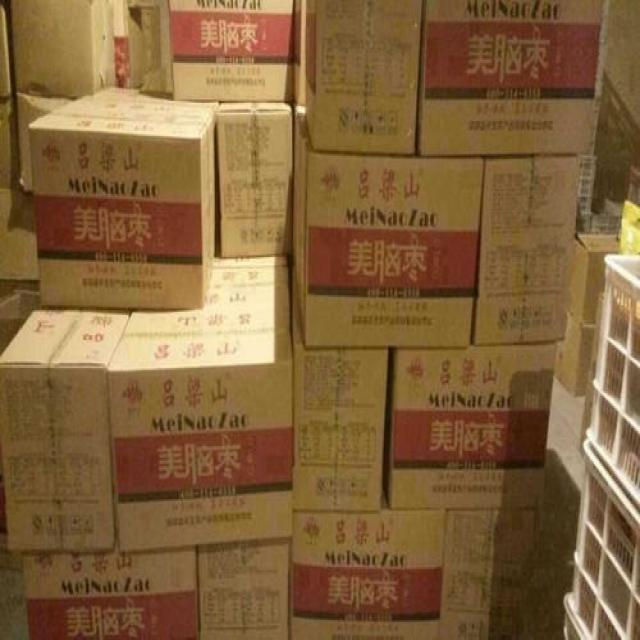box: (292, 107, 484, 350), (107, 308, 294, 553), (28, 86, 219, 309), (0, 309, 132, 552), (417, 0, 604, 155), (386, 343, 557, 509), (293, 267, 389, 511), (291, 494, 447, 638), (474, 156, 580, 345), (305, 0, 422, 154), (21, 538, 198, 638), (169, 0, 293, 100), (215, 101, 293, 259), (440, 510, 533, 637), (12, 0, 116, 98), (197, 538, 290, 638), (17, 93, 73, 192), (203, 267, 290, 308), (214, 247, 288, 268)
